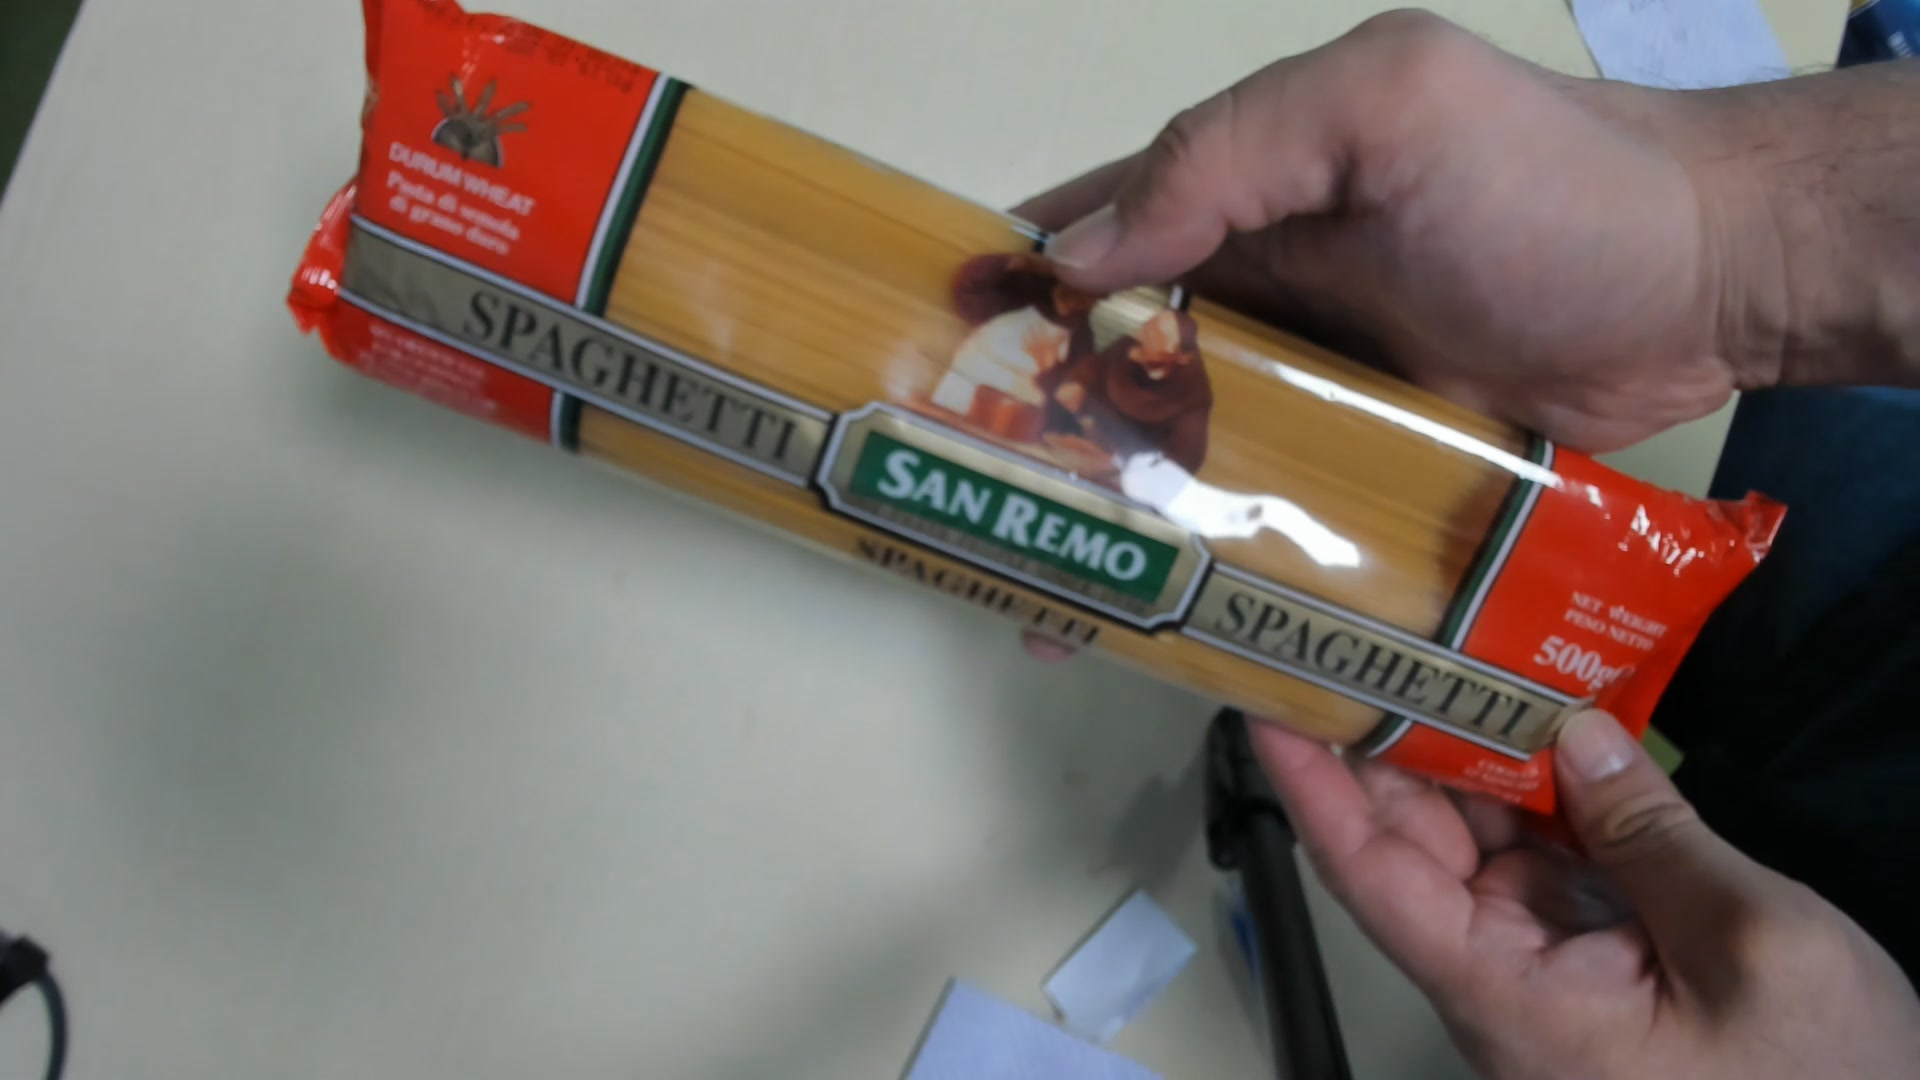Pasta_500-599g_Halal_NonHealthy: (280, 7, 1776, 822)
